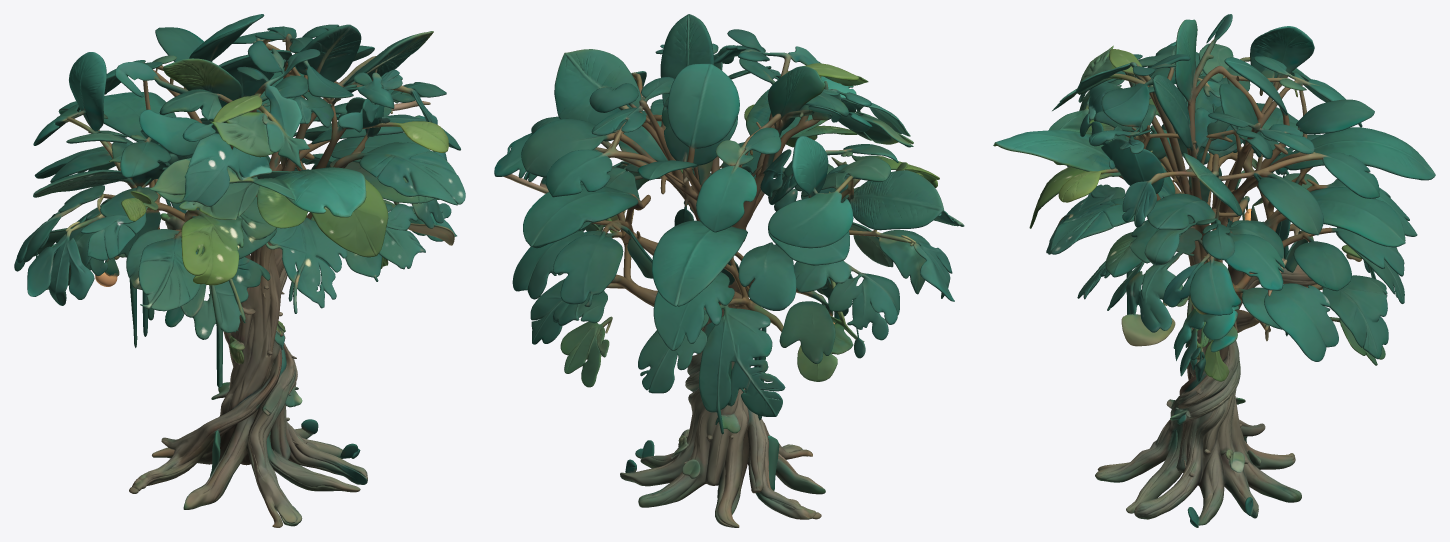
File: canopy.glb
3 views of the same model, side by side, from view 1: azimuth 30°, elevation 25°; view 2: azimuth 150°, elevation 25°; view 3: azimuth 270°, elevation 25° (orthographic). The views are drawn at different scales.
Parts seen in each view (by area): view 1: tripo_node_507b9fdf-618e-419d-a8ab-ea19a2285822; view 2: tripo_node_507b9fdf-618e-419d-a8ab-ea19a2285822; view 3: tripo_node_507b9fdf-618e-419d-a8ab-ea19a2285822.
Boxes of the visible parts, <box> form: tripo_node_507b9fdf-618e-419d-a8ab-ea19a2285822: <box>14,14,465,527</box>; tripo_node_507b9fdf-618e-419d-a8ab-ea19a2285822: <box>494,14,964,527</box>; tripo_node_507b9fdf-618e-419d-a8ab-ea19a2285822: <box>993,14,1435,527</box>.
Size of the model in its own units: 0.9781 by 0.9711 by 0.8871.
1 material, 1 textured.
